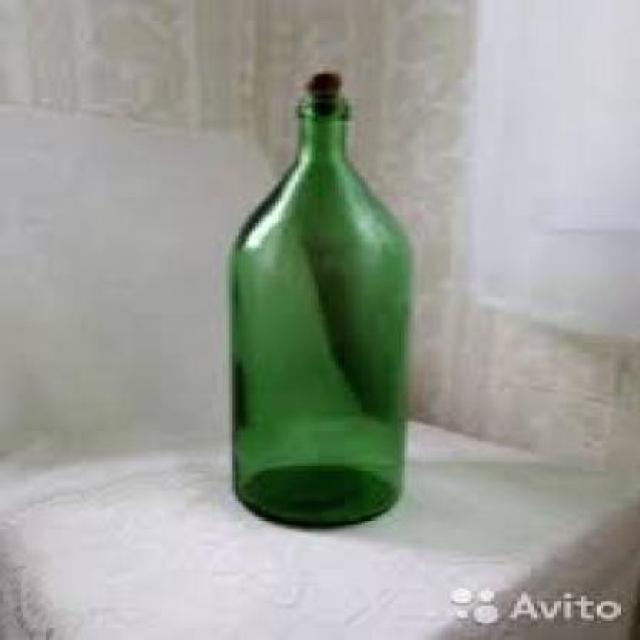GLASS: (228, 96, 408, 530)
